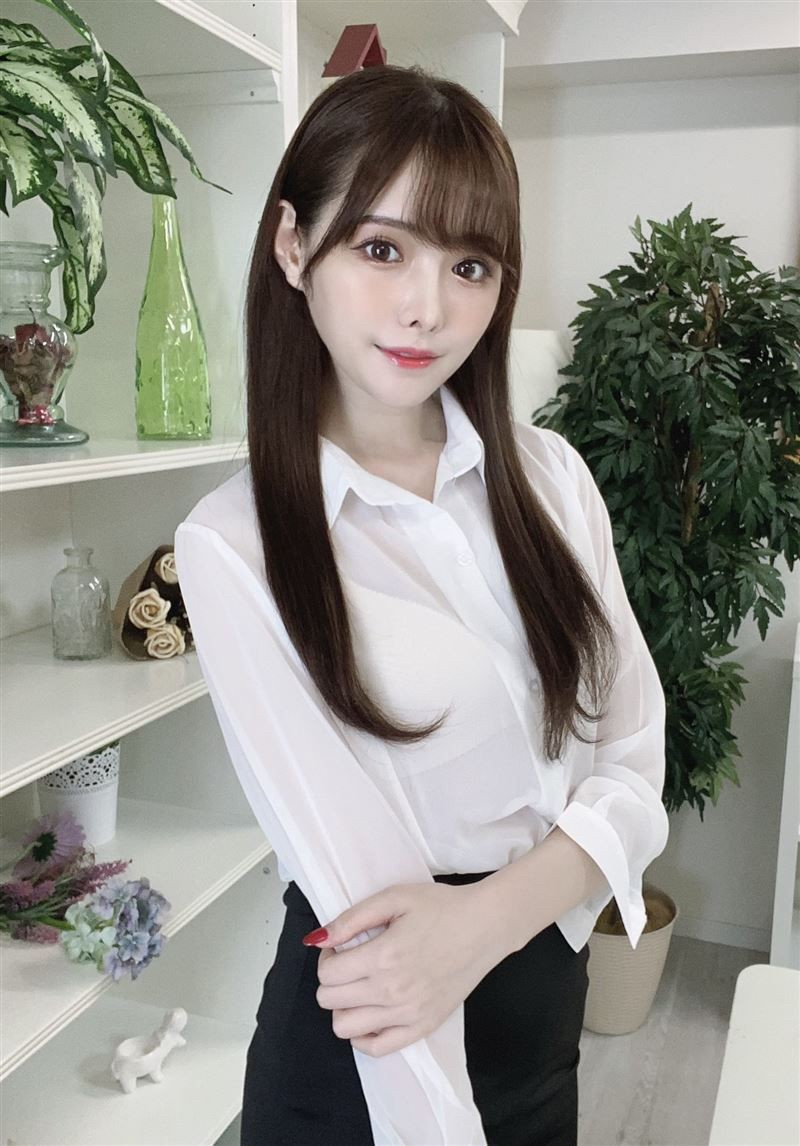people: (209, 73, 591, 1146)
